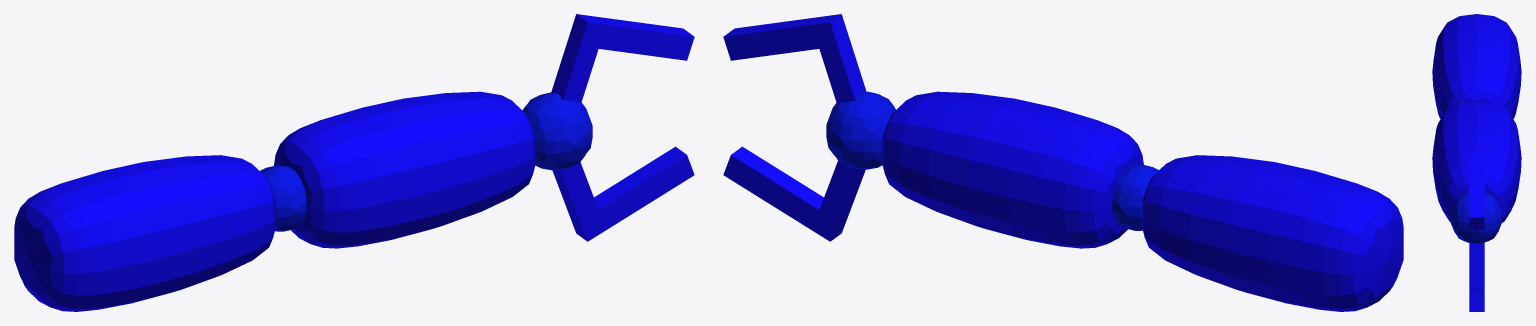
Rendered from RightArm.fbx.
3 views of the same model, side by side, from view 1: azimuth 30°, elevation 25°; view 2: azimuth 150°, elevation 25°; view 3: azimuth 270°, elevation 25° (orthographic). The views are drawn at different scales.
Visible parts, largest first — view 1: Bicep.R, Forearm.R, ClawDown.R, ClawUp.R, Wrist.R, Elbow.R; view 2: Bicep.R, Forearm.R, ClawDown.R, ClawUp.R, Wrist.R, Elbow.R; view 3: Forearm.R, Bicep.R, Wrist.R, ClawUp.R, ClawDown.R.
Boxes of the visible parts, bbox=[...] form: Bicep.R: bbox=[14, 155, 275, 311]; Forearm.R: bbox=[274, 91, 535, 248]; ClawDown.R: bbox=[552, 146, 694, 241]; ClawUp.R: bbox=[551, 14, 694, 102]; Wrist.R: bbox=[522, 92, 592, 170]; Elbow.R: bbox=[260, 165, 306, 231]; Bicep.R: bbox=[1142, 155, 1403, 311]; Forearm.R: bbox=[882, 91, 1143, 248]; ClawDown.R: bbox=[723, 146, 865, 241]; ClawUp.R: bbox=[723, 14, 866, 104]; Wrist.R: bbox=[826, 91, 895, 169]; Elbow.R: bbox=[1112, 164, 1158, 230]; Forearm.R: bbox=[1432, 100, 1521, 222]; Bicep.R: bbox=[1432, 14, 1521, 118]; Wrist.R: bbox=[1449, 192, 1502, 243]; ClawUp.R: bbox=[1469, 154, 1484, 229]; ClawDown.R: bbox=[1469, 242, 1484, 311].
Bounding box in the file's own units: 333 × 106 × 57.17.
